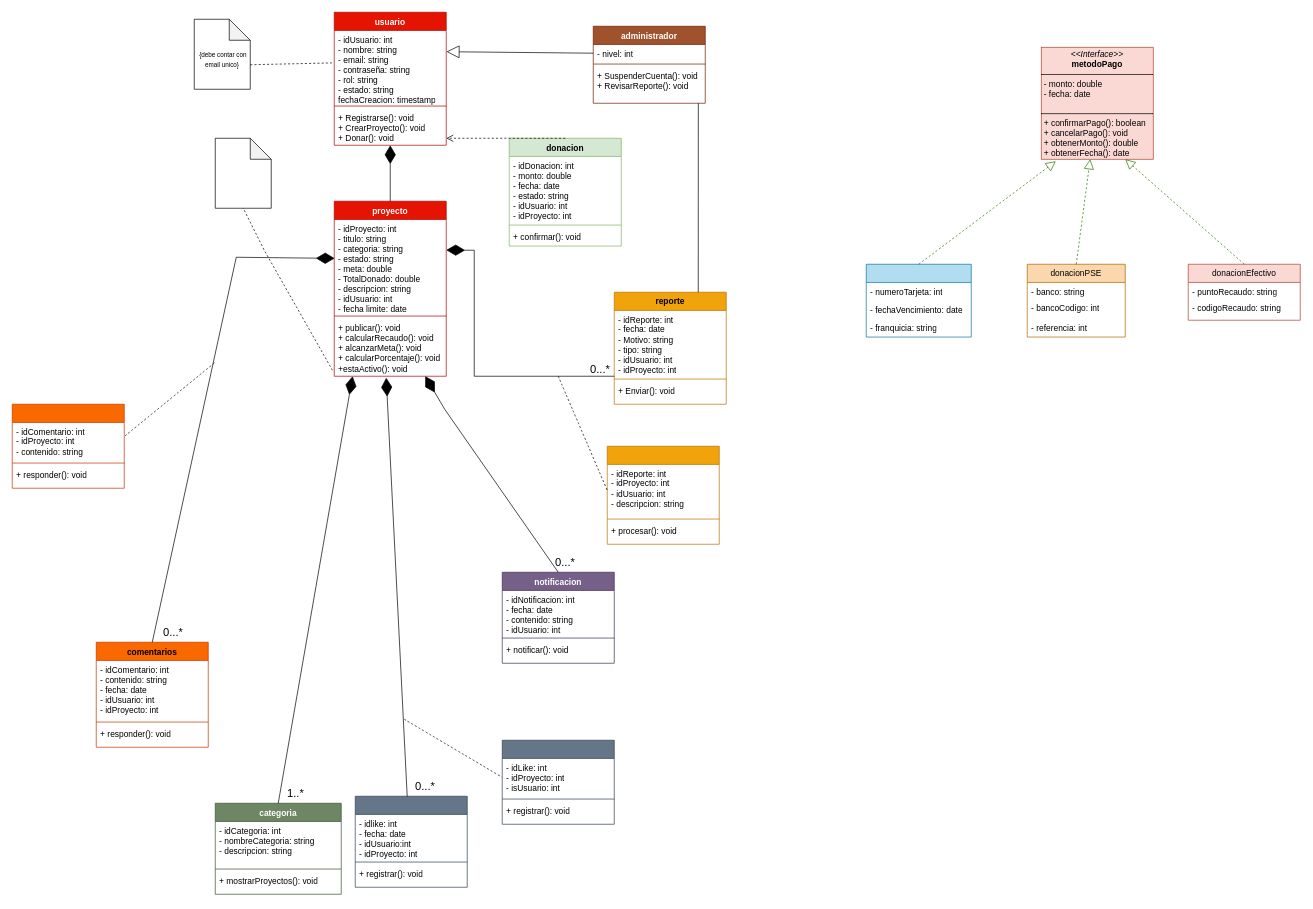
This 1313x909 diagram has some shape labels left out. Each missing label, with the box of its shape:
donacionTarjeta: (866, 264, 971, 337)
likes: (355, 796, 467, 887)
obtiene: (502, 740, 614, 824)
puede tener: (12, 404, 124, 488)
recibe: (607, 446, 719, 544)
{el estado debe estar aprobado por el administrador}: (215, 138, 271, 208)
